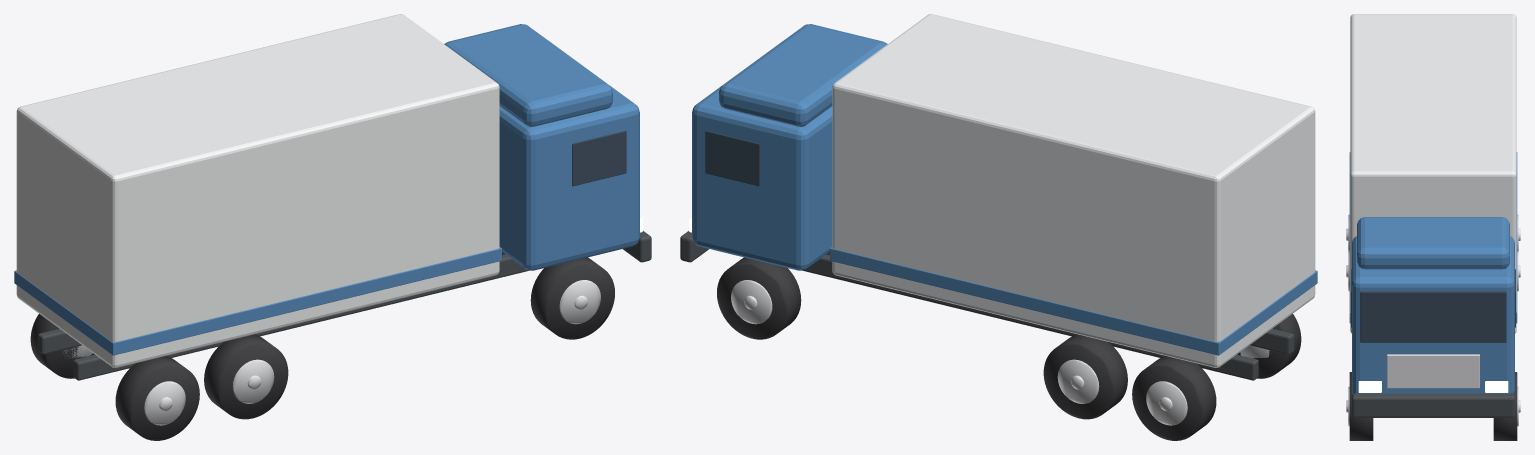
The model's file is truck-map.glb.
3 renders of one model, left to right at view 1: azimuth 30°, elevation 25°; view 2: azimuth 150°, elevation 25°; view 3: azimuth 270°, elevation 25°, orthographic. The views are drawn at different scales.
Parts seen in each view (by area): view 1: body__cargo_box, body__cab, body__cab_roof, body__cargo_stripe, tires__wheel_R1R, tires__wheel_R2R, tires__wheel_FR, body__chassis_rail_L, body__side_window_-1, tires__wheel_R2L; view 2: body__cargo_box, body__cab, body__cab_roof, body__cargo_stripe, tires__wheel_R1L, tires__wheel_R2L, tires__wheel_FL, body__chassis_rail_L, body__side_window_1, tires__wheel_R2R; view 3: body__cargo_box, body__cab, body__cab_roof, body__windshield, body__bumper, body__grille, tires__wheel_FL, tires__wheel_FR, body__cargo_stripe, body__headlight_1, body__headlight_-1.
Boxes of the visible parts, x1,y1,x2,y2 form: body__cargo_box: (16,14,499,367); body__cab: (499,65,639,270); body__cab_roof: (444,24,612,126); body__cargo_stripe: (14,247,501,355); tires__wheel_R1R: (204,334,288,419); tires__wheel_R2R: (115,356,199,440); tires__wheel_FR: (530,257,614,339); body__chassis_rail_L: (37,254,528,380); body__side_window_-1: (572,130,626,186); tires__wheel_R2L: (30,314,94,378); body__cargo_box: (832,14,1315,367); body__cab: (692,65,832,270); body__cab_roof: (719,24,887,126); body__cargo_stripe: (830,247,1317,355); tires__wheel_R1L: (1043,334,1127,419); tires__wheel_R2L: (1132,356,1216,440); tires__wheel_FL: (717,257,801,339); body__chassis_rail_L: (803,254,1294,380); body__side_window_1: (705,130,759,186); tires__wheel_R2R: (1237,314,1301,378); body__cargo_box: (1350,14,1516,333); body__cab: (1352,236,1514,393); body__cab_roof: (1357,217,1509,269); body__windshield: (1360,291,1506,342); body__bumper: (1352,393,1514,417); body__grille: (1387,354,1479,388); tires__wheel_FL: (1493,372,1520,440); tires__wheel_FR: (1346,372,1373,440); body__cargo_stripe: (1349,152,1517,323); body__headlight_1: (1485,381,1508,392); body__headlight_-1: (1358,381,1381,392).
Bounding box in the file's own units: 8.04 × 3.85 × 2.62.
